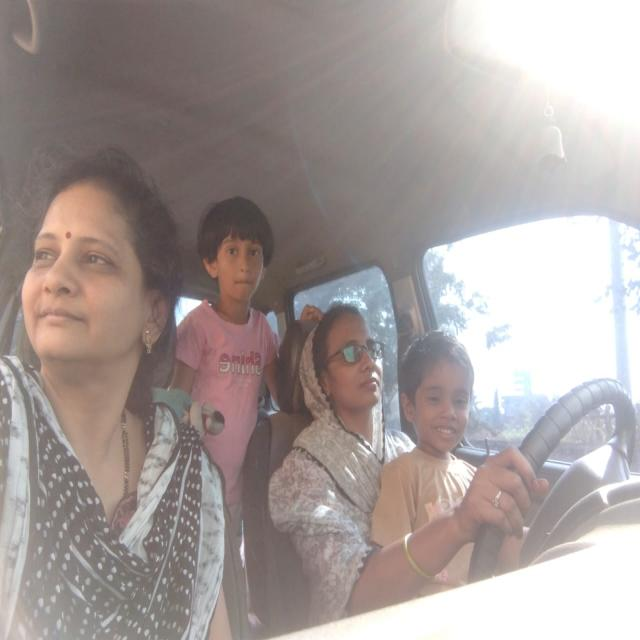child: (398, 335, 476, 449)
person: (25, 163, 174, 371), (305, 310, 390, 416), (202, 195, 273, 305)
